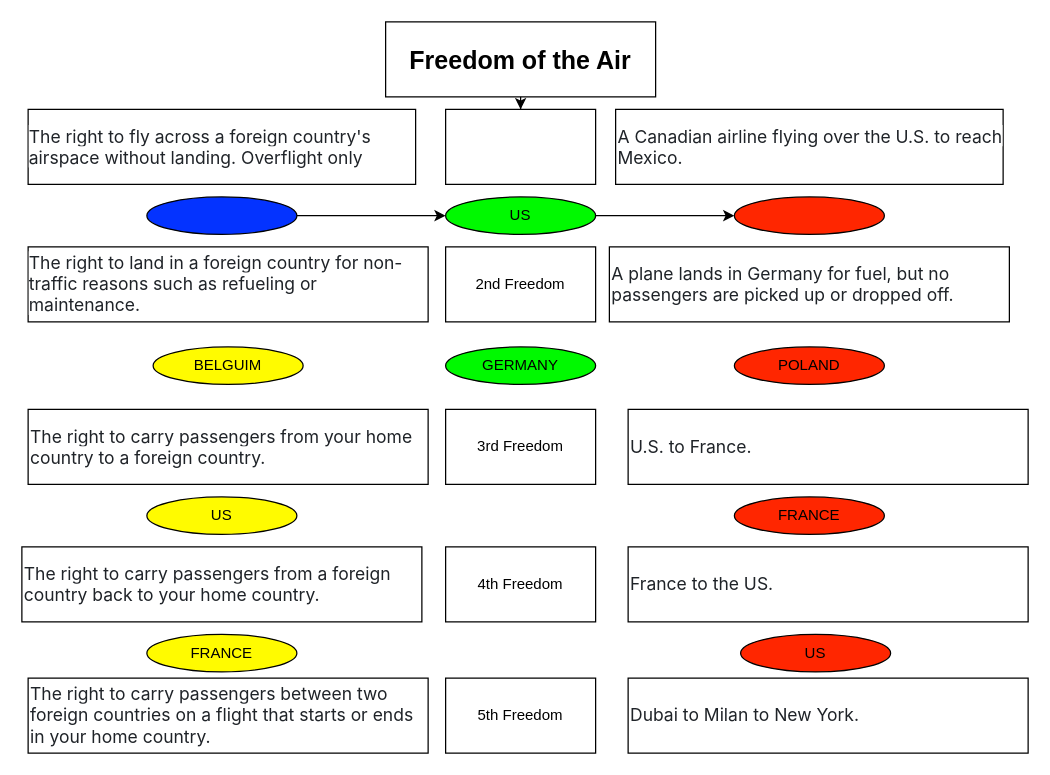
The diagram is 1050 pixels wide and 775 high, and some of its shapes have lost their labels. The centre of each missing label's shape, as x and y in pixels:
1st Freedom: [520,146]
CANADA: [221,215]
MEXICO: [808,215]
